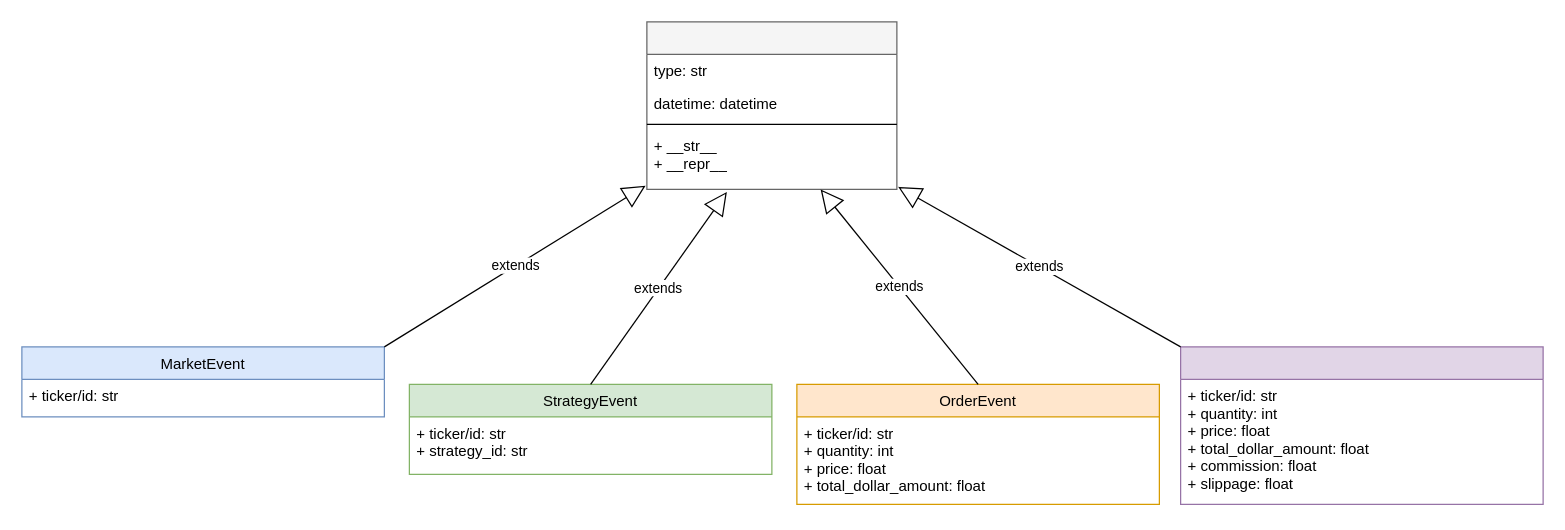
The diagram is 1565 pixels wide and 530 high, and some of its shapes have lost their labels. The shapes that lost their labels are listed below. From the top down, each one's box as (x1, y1, x2, y2) in pixels, then its label:
(646, 21, 897, 189): EventBaseClass
(1179, 346, 1543, 504): FillEvent
